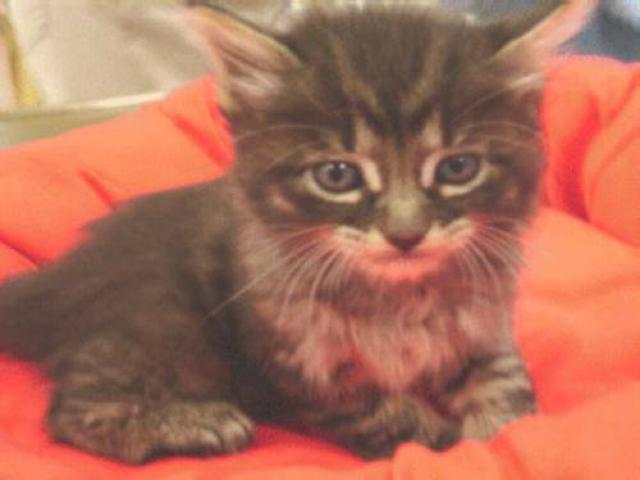cat: (21, 6, 571, 473)
